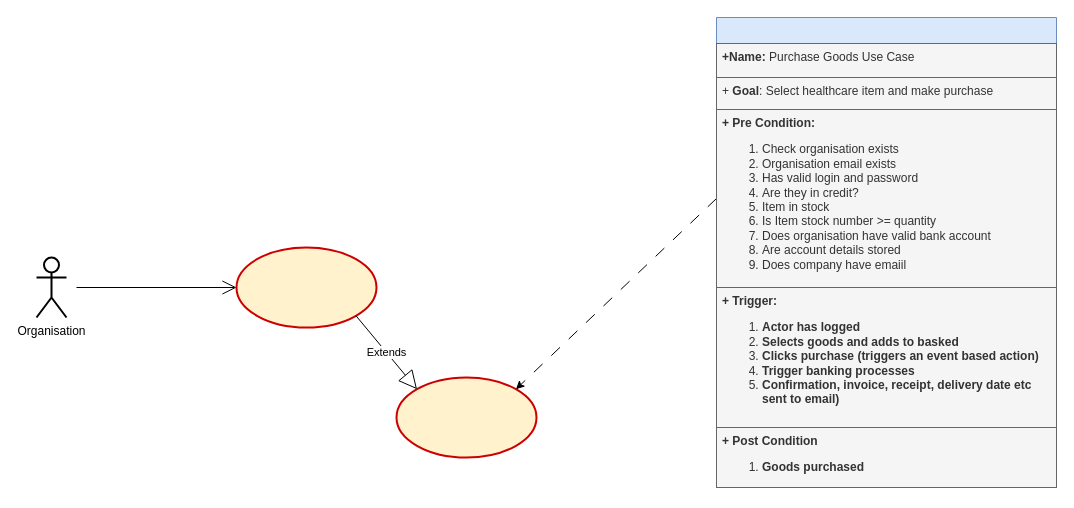
Image size: 1074x508. Some labels were removed from this diagram. The box of each missing label's shape, as (x1, y1, x2, y2) in pixels:
Goods And Services: (235, 246, 377, 328)
Purchase item: (395, 376, 537, 458)
Use Case Descriptor: (716, 16, 1056, 488)
